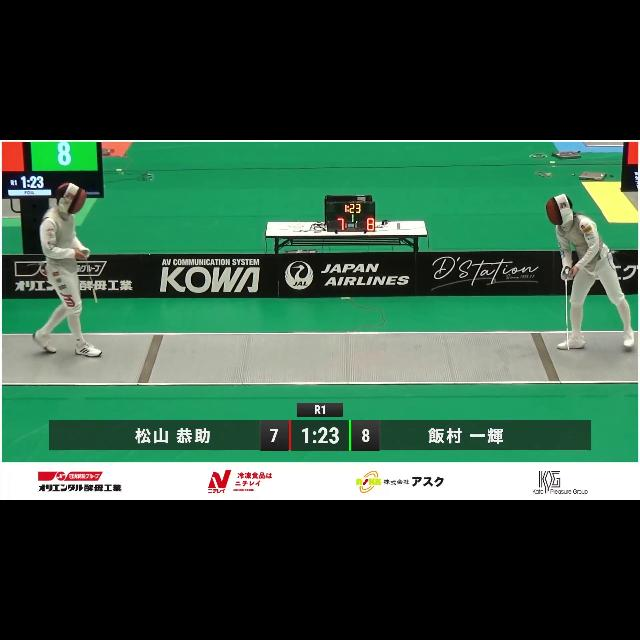blade: (80, 245, 100, 303), (563, 266, 575, 358)
